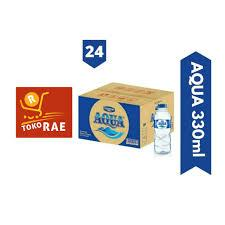BIODEGRADABLE: (151, 102, 175, 158)
